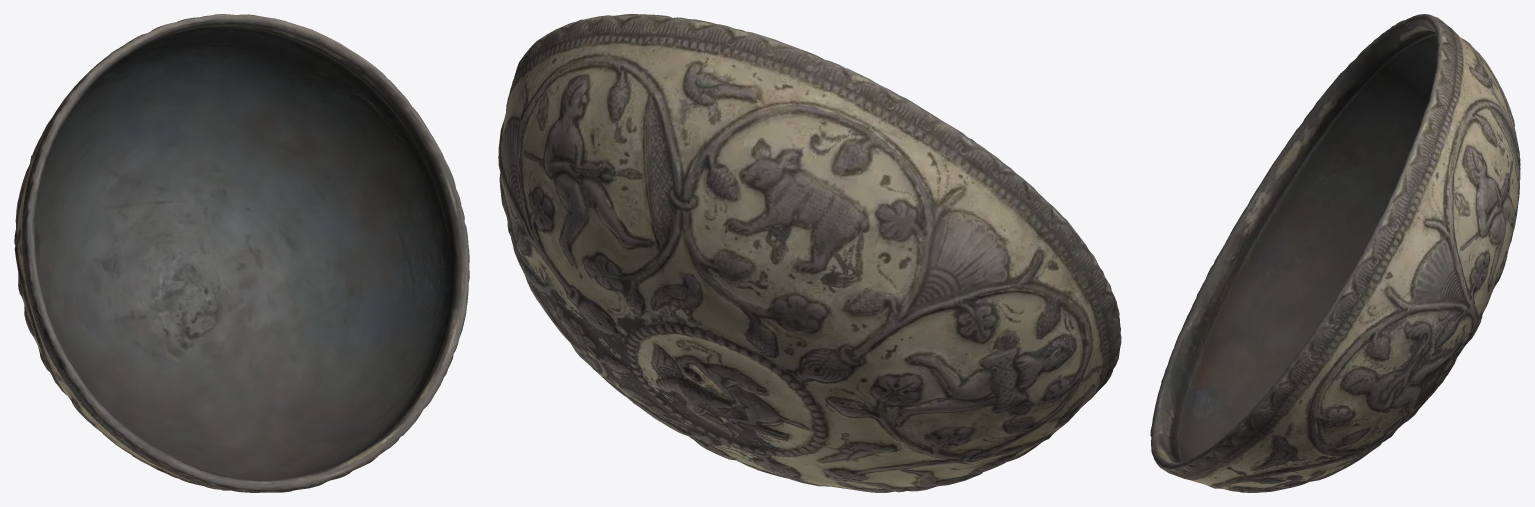
The model's file is bowl.glb.
3 renders of one model, left to right at view 1: azimuth 30°, elevation 25°; view 2: azimuth 150°, elevation 25°; view 3: azimuth 270°, elevation 25°, orthographic. The views are drawn at different scales.
Parts seen in each view (by area): view 1: Object_2; view 2: Object_2; view 3: Object_2.
Part boxes in pixels (bbox=[...]): Object_2: bbox=[14, 14, 469, 492]; Object_2: bbox=[498, 14, 1121, 492]; Object_2: bbox=[1150, 14, 1520, 492].
Bounding box in the file's own units: 0.134 × 0.1173 × 0.0927.
Materials: 1 (1 with a texture image).
